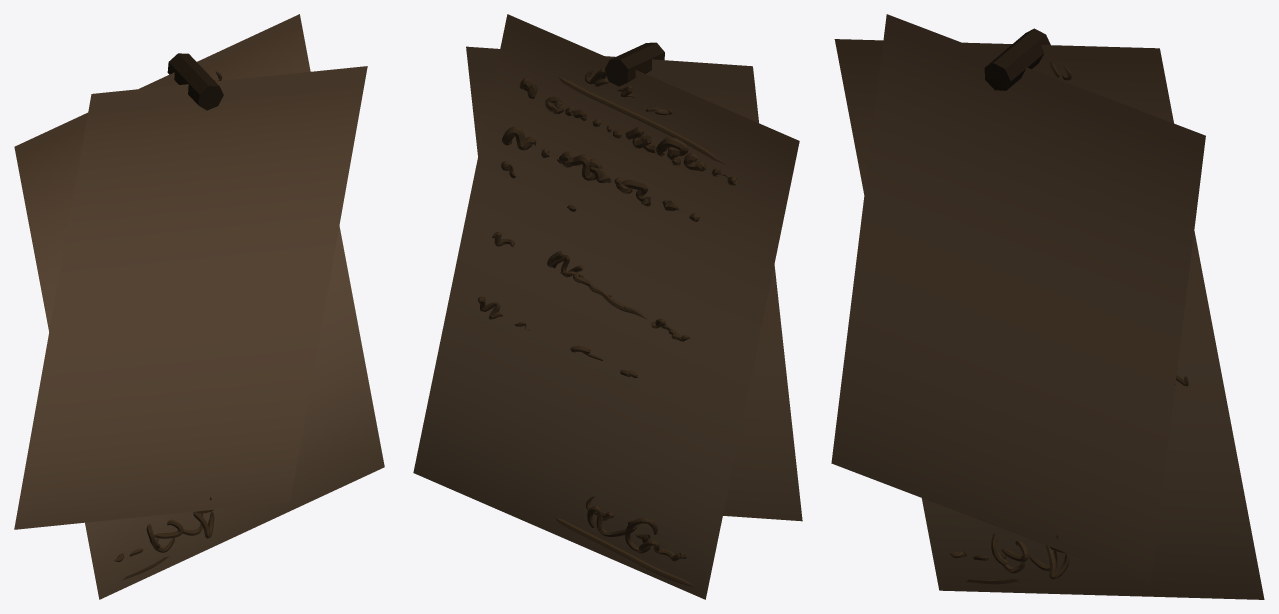
File: Note_01_quill.fbx
The picture shows the model from 3 angles, left to right: view 1: azimuth 30°, elevation 25°; view 2: azimuth 150°, elevation 25°; view 3: azimuth 330°, elevation 25°; orthographic projection. The views are drawn at different scales.
Parts seen in each view (by area): view 1: Note_01_quill; view 2: Note_01_quill; view 3: Note_01_quill.
Boxes of the visible parts, <box> form: Note_01_quill: <box>14,14,384,599</box>; Note_01_quill: <box>413,14,802,599</box>; Note_01_quill: <box>831,14,1264,599</box>.
Size of the model in its own units: 0.4247 by 0.5739 by 0.0763.
